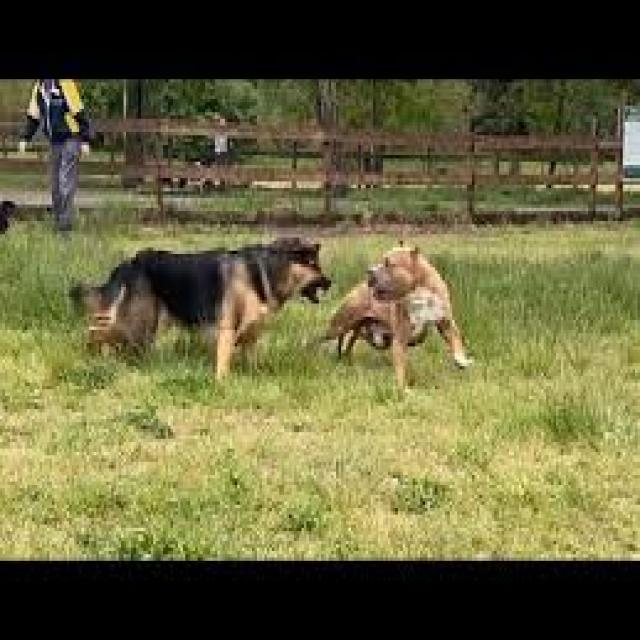Dog: (66, 232, 332, 383), (323, 235, 475, 392)
